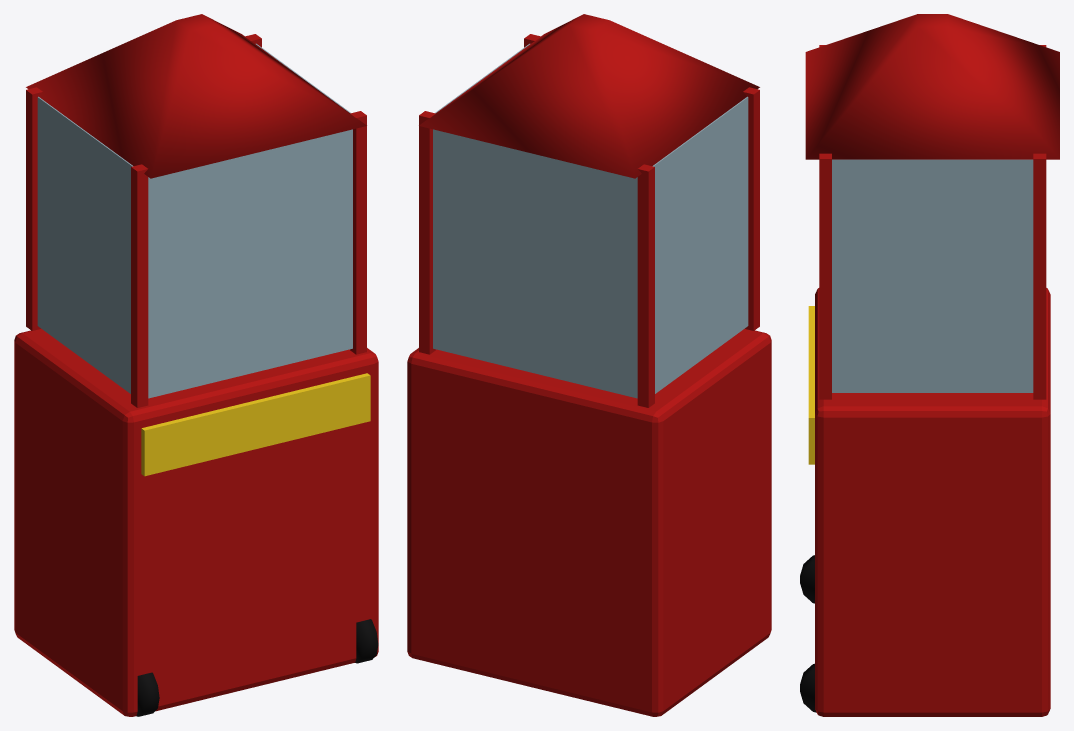
File: popcorn_machine.glb
3 views of the same model, side by side, from view 1: azimuth 30°, elevation 25°; view 2: azimuth 150°, elevation 25°; view 3: azimuth 270°, elevation 25° (orthographic).
Visible parts, largest first — view 1: popcorn_machine; view 2: popcorn_machine; view 3: popcorn_machine.
Part boxes in pixels (x1,y1,x2,y2): popcorn_machine: (14, 14, 378, 716); popcorn_machine: (407, 14, 771, 716); popcorn_machine: (800, 14, 1059, 716).
Size of the model in its own units: 0.7 by 1.64 by 0.607.
1 material, 1 textured.
